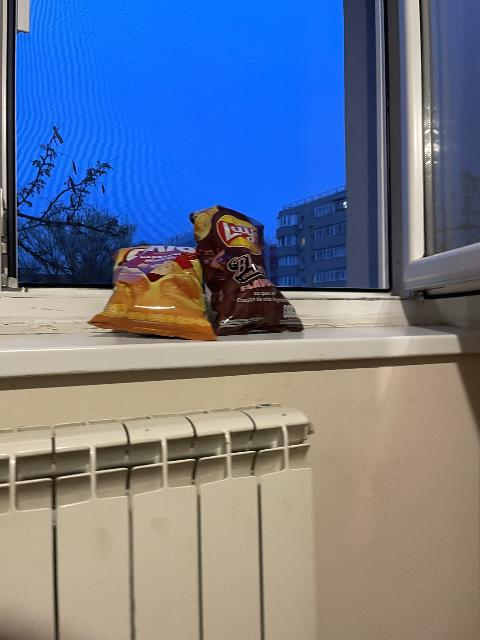Chio Cascaval 125g: (88, 246, 217, 340)
Lays Beef Grilled Ribs 125g: (191, 204, 302, 334)
